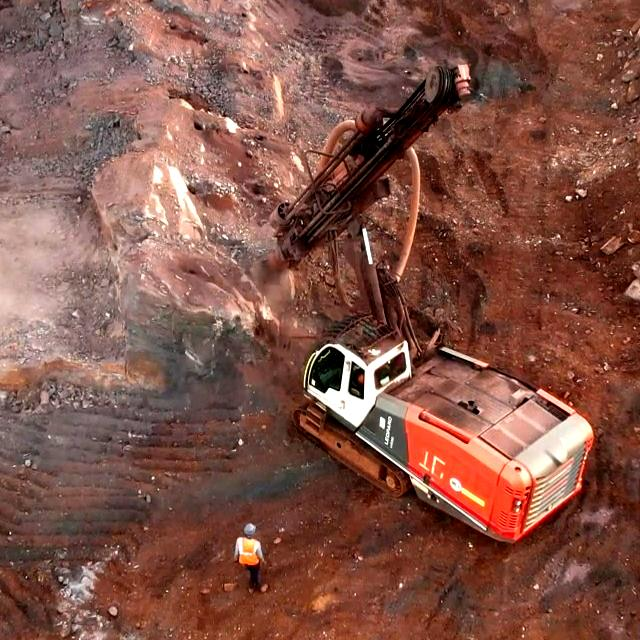Blast rig: (318, 339, 589, 471)
person: (229, 523, 262, 592)
